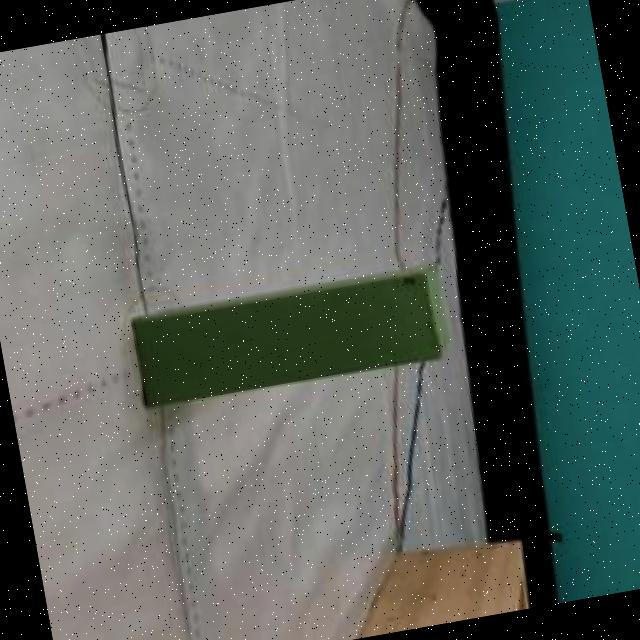greenbox: (128, 260, 457, 416)
